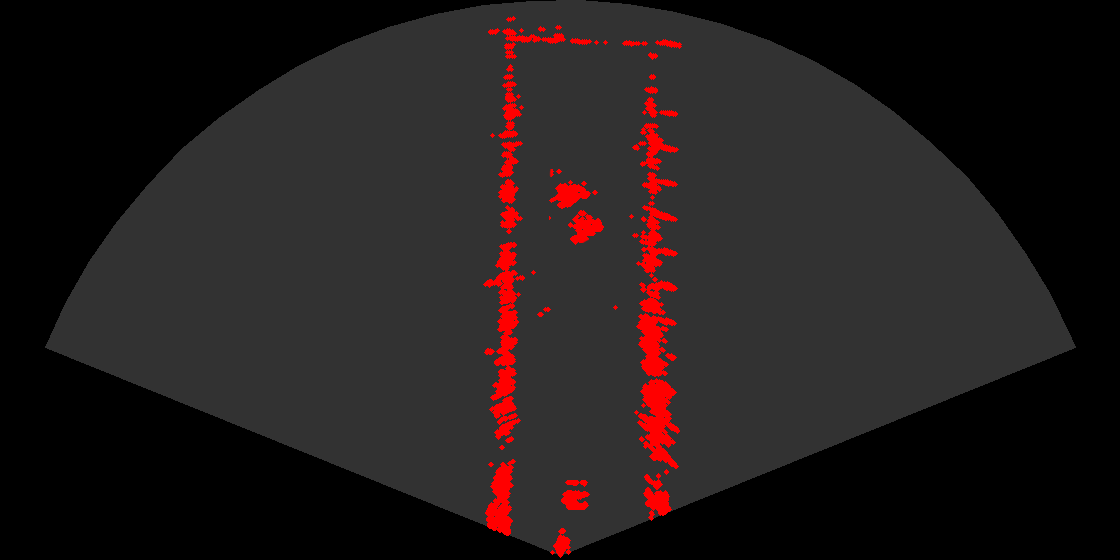ball: (541, 472, 601, 513)
cage: (549, 169, 612, 253)
